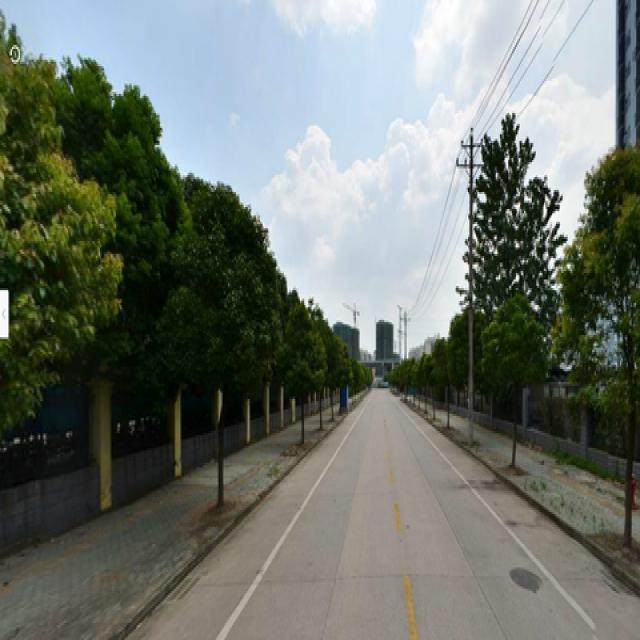cinn: (573, 173, 639, 535), (488, 294, 535, 465), (280, 311, 315, 446)
